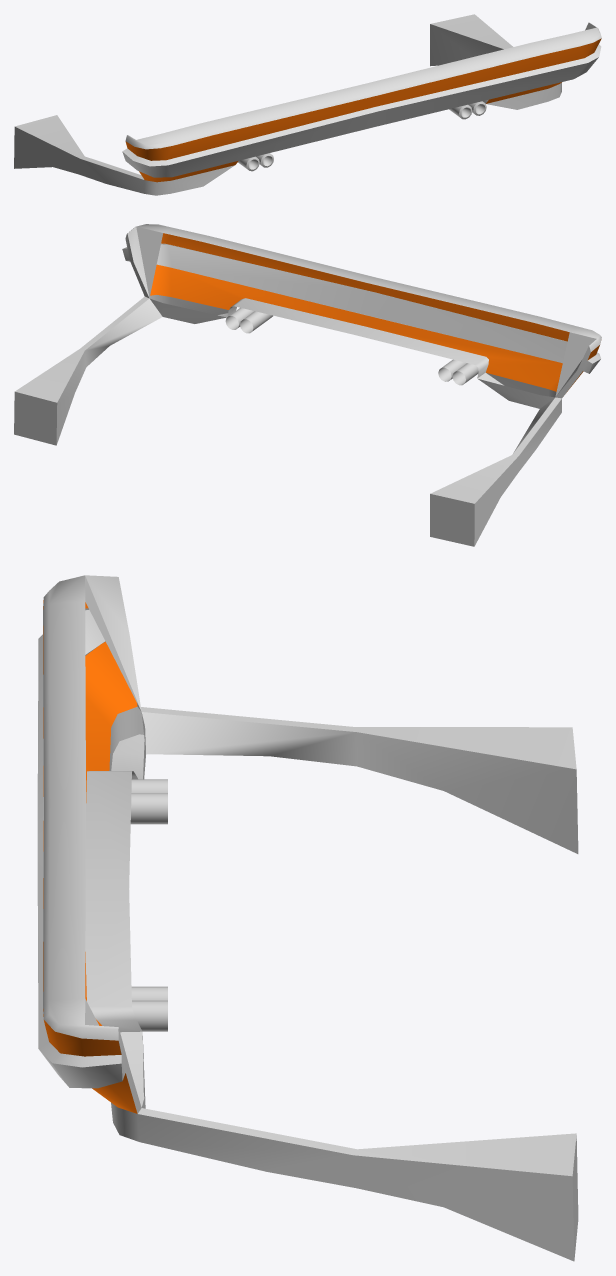
The model's file is Muscle_2_Bumper_B_3.fbx.
3 renders of one model, top to bottom at view 1: azimuth 30°, elevation 25°; view 2: azimuth 150°, elevation 25°; view 3: azimuth 270°, elevation 25°, orthographic. The views are drawn at different scales.
Parts seen in each view (by area): view 1: Muscle_2_Bumper_B_3; view 2: Muscle_2_Bumper_B_3; view 3: Muscle_2_Bumper_B_3.
Boxes of the visible parts, x1,y1,x2,y2 form: Muscle_2_Bumper_B_3: (14,14,601,195); Muscle_2_Bumper_B_3: (14,224,601,546); Muscle_2_Bumper_B_3: (37,575,578,1261).
Bounding box in the file's own units: 154 × 37.42 × 76.93.
